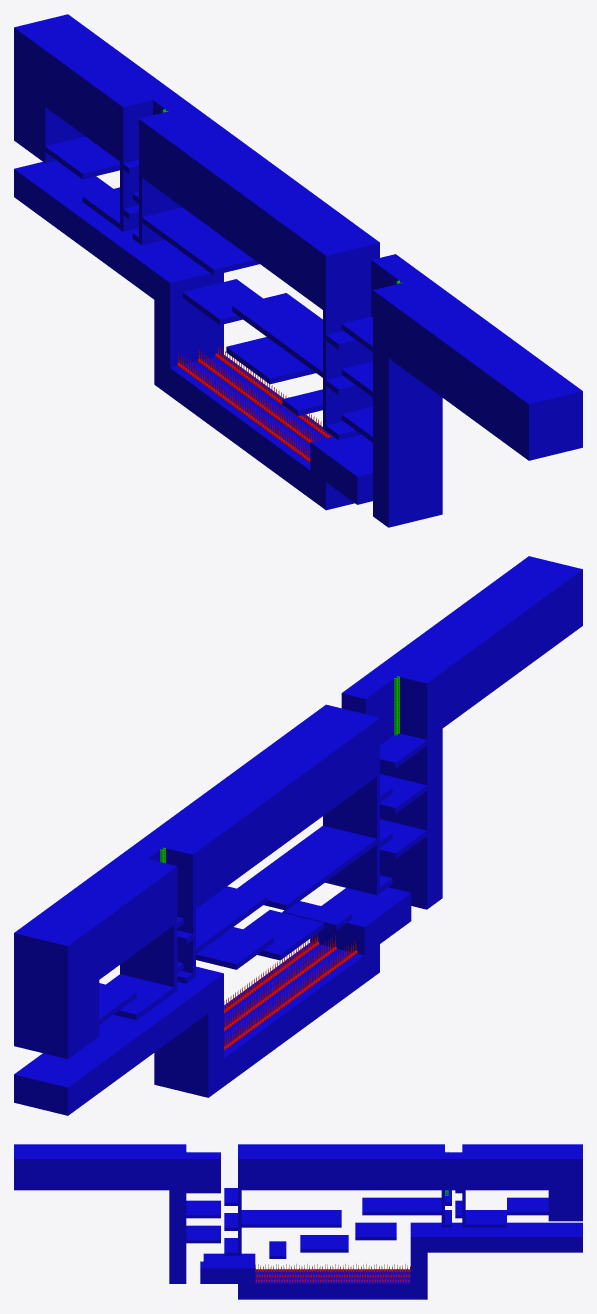
Rendered from Level_3_scene10_colored.fbx.
3 renders of one model, top to bottom at view 1: azimuth 30°, elevation 25°; view 2: azimuth 150°, elevation 25°; view 3: azimuth 270°, elevation 25°, orthographic. The views are drawn at different scales.
Visible parts, largest first — view 1: area1.001, Cube.041, Cube.044, Cube.045, Cube.042, Cube.040, Cube.053, Cone.002, Cube.038, Cube.001, Cube.039, Cone.005 (+3 smaller); view 2: area1.001, Cube.044, Cube.041, Cube.045, Cube.039, Cube.001, Cube.042, Cube.040, Cube.046, Cone.002, Cube.038, Cone.005 (+3 smaller); view 3: area1.001, Cube.044, Cube.045, Cube.001, Cube.041, Cube.042, Cube.040, Cube.053, Cube.046, Cube.005, Cone.004, Cone.005 (+4 smaller).
Part boxes in pixels (bbox=[...]): area1.001: bbox=[14, 14, 582, 527]; Cube.041: bbox=[323, 301, 372, 440]; Cube.044: bbox=[232, 293, 322, 377]; Cube.045: bbox=[142, 207, 259, 275]; Cube.042: bbox=[226, 337, 315, 384]; Cube.040: bbox=[182, 279, 262, 324]; Cube.053: bbox=[45, 136, 119, 179]; Cone.002: bbox=[177, 352, 310, 462]; Cube.038: bbox=[132, 175, 181, 245]; Cube.001: bbox=[371, 254, 426, 317]; Cube.039: bbox=[120, 160, 138, 231]; Cone.005: bbox=[197, 350, 320, 443]; area1.001: bbox=[14, 556, 582, 1115]; Cube.044: bbox=[237, 825, 376, 910]; Cube.041: bbox=[323, 774, 392, 895]; Cube.045: bbox=[196, 886, 267, 953]; Cube.039: bbox=[120, 917, 183, 992]; Cube.001: bbox=[341, 670, 396, 744]; Cube.042: bbox=[243, 910, 323, 960]; Cube.040: bbox=[196, 927, 273, 969]; Cube.046: bbox=[106, 974, 173, 1020]; Cone.002: bbox=[224, 939, 357, 1050]; Cube.038: bbox=[177, 907, 195, 983]; Cone.005: bbox=[224, 935, 336, 1031]; area1.001: bbox=[14, 1144, 582, 1299]; Cube.044: bbox=[241, 1210, 341, 1227]; Cube.045: bbox=[362, 1197, 441, 1215]; Cube.001: bbox=[186, 1152, 220, 1190]; Cube.041: bbox=[224, 1188, 241, 1255]; Cube.042: bbox=[300, 1235, 348, 1252]; Cube.040: bbox=[355, 1222, 396, 1240]; Cube.053: bbox=[507, 1197, 548, 1215]; Cube.046: bbox=[465, 1210, 506, 1227]; Cube.005: bbox=[445, 1152, 462, 1190]; Cone.004: bbox=[255, 1274, 410, 1282]; Cone.005: bbox=[256, 1269, 409, 1277].
Size of the model in its own units: 1000 by 4500 by 16500.
